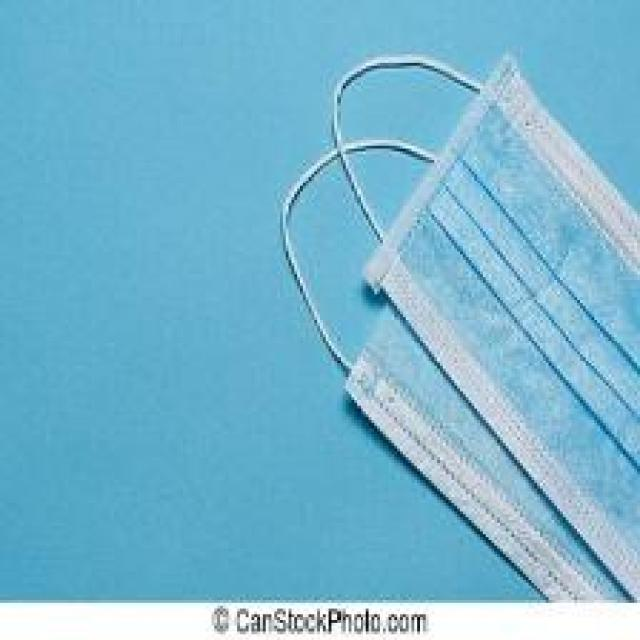Mask: (298, 47, 640, 602)
